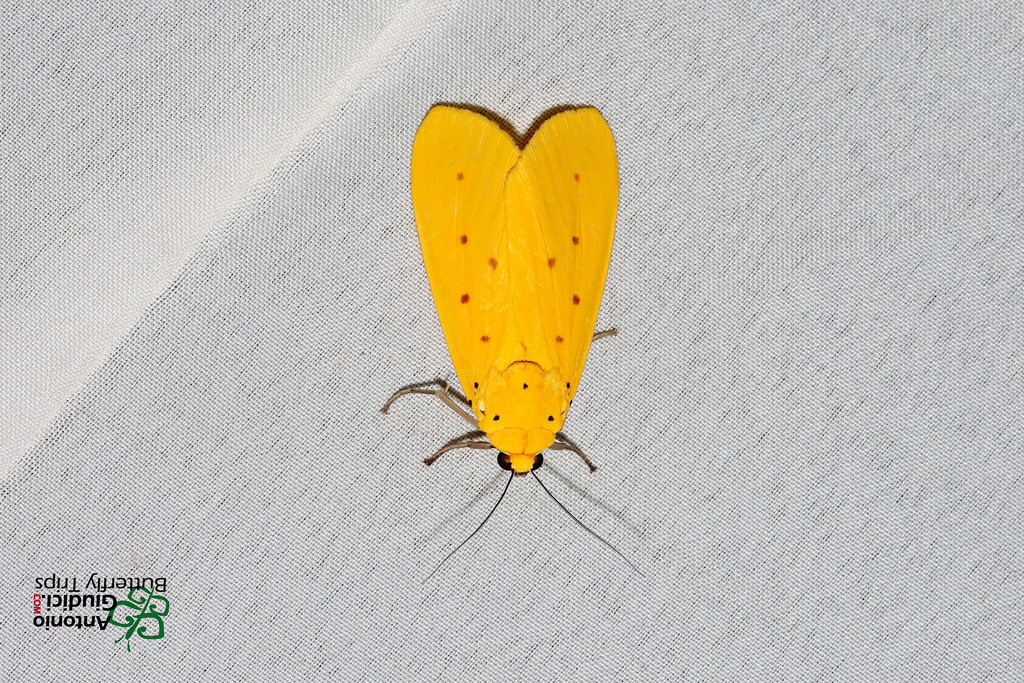Agape chloropyga: (371, 95, 658, 586)
moth: (364, 88, 651, 579)
